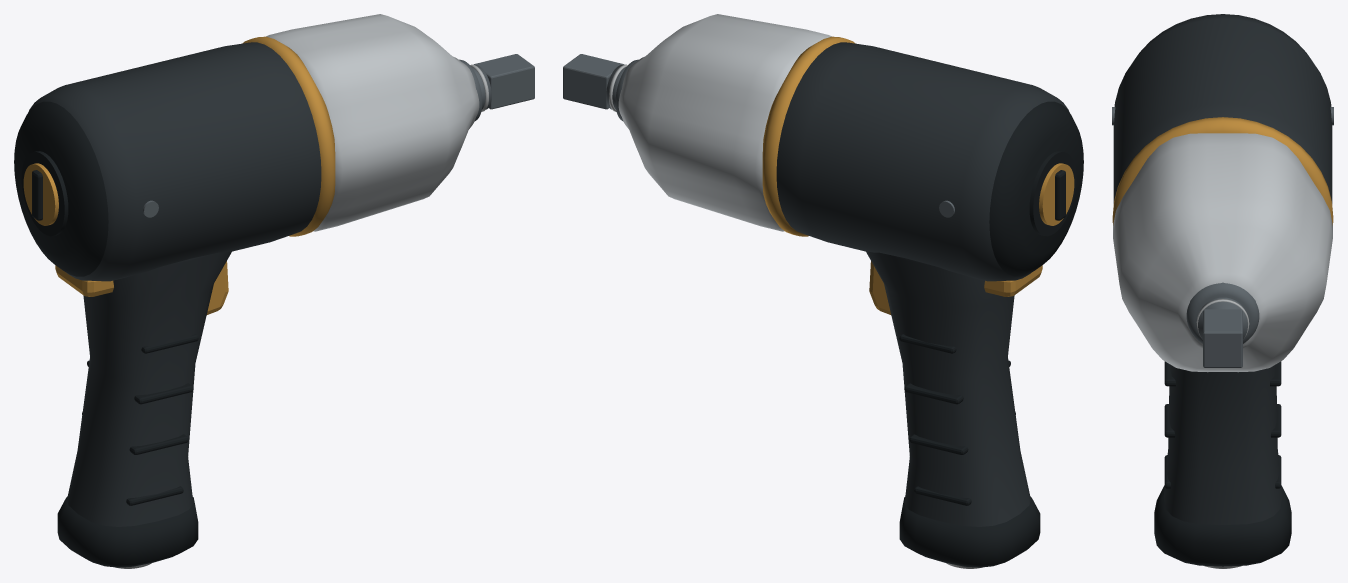
3 views of the same model, side by side, from view 1: azimuth 30°, elevation 25°; view 2: azimuth 150°, elevation 25°; view 3: azimuth 270°, elevation 25° (orthographic). The views are drawn at different scales.
Parts seen in each view (by area): view 1: Rounded rear motor enclosure, Curved pistol grip, Fluted metal impact housing, Rear end molded cap, Expanded rubber heel, Ochre housing gasket, Half inch square drive, Rear regulator base, Rear regulator dial, Reverse thumb tab; view 2: Rounded rear motor enclosure, Curved pistol grip, Fluted metal impact housing, Rear end molded cap, Expanded rubber heel, Ochre housing gasket, Half inch square drive, Rear regulator base, Rear regulator dial, Reverse thumb tab; view 3: Fluted metal impact housing, Rounded rear motor enclosure, Curved pistol grip, Expanded rubber heel, Ochre housing gasket, Half inch square drive, Front retaining nose, Round drive root.
Part boxes in pixels (bbox=[...]): Rounded rear motor enclosure: bbox=[28, 42, 321, 281]; Curved pistol grip: bbox=[67, 251, 231, 526]; Fluted metal impact housing: bbox=[266, 14, 479, 231]; Rear end molded cap: bbox=[14, 101, 108, 276]; Expanded rubber heel: bbox=[57, 496, 198, 567]; Ochre housing gasket: bbox=[242, 36, 335, 236]; Half inch square drive: bbox=[474, 54, 534, 109]; Rear regulator base: bbox=[21, 151, 68, 236]; Rear regulator dial: bbox=[23, 163, 58, 225]; Reverse thumb tab: bbox=[55, 265, 113, 296]; Rounded rear motor enclosure: bbox=[776, 42, 1069, 281]; Curved pistol grip: bbox=[866, 251, 1030, 526]; Fluted metal impact housing: bbox=[618, 14, 831, 231]; Rear end molded cap: bbox=[989, 101, 1083, 276]; Expanded rubber heel: bbox=[899, 496, 1040, 567]; Ochre housing gasket: bbox=[762, 36, 855, 236]; Half inch square drive: bbox=[563, 54, 623, 109]; Rear regulator base: bbox=[1029, 151, 1076, 236]; Rear regulator dial: bbox=[1039, 163, 1074, 225]; Reverse thumb tab: bbox=[984, 265, 1042, 296]; Fluted metal impact housing: bbox=[1113, 133, 1332, 372]; Rounded rear motor enclosure: bbox=[1113, 14, 1332, 203]; Curved pistol grip: bbox=[1163, 364, 1282, 524]; Expanded rubber heel: bbox=[1154, 485, 1291, 566]; Ochre housing gasket: bbox=[1112, 117, 1333, 225]; Half inch square drive: bbox=[1203, 309, 1242, 367]; Front retaining nose: bbox=[1186, 282, 1259, 343]; Round drive root: bbox=[1198, 297, 1247, 338].
Size of the model in its own units: 0.1975 by 0.1833 by 0.071.
